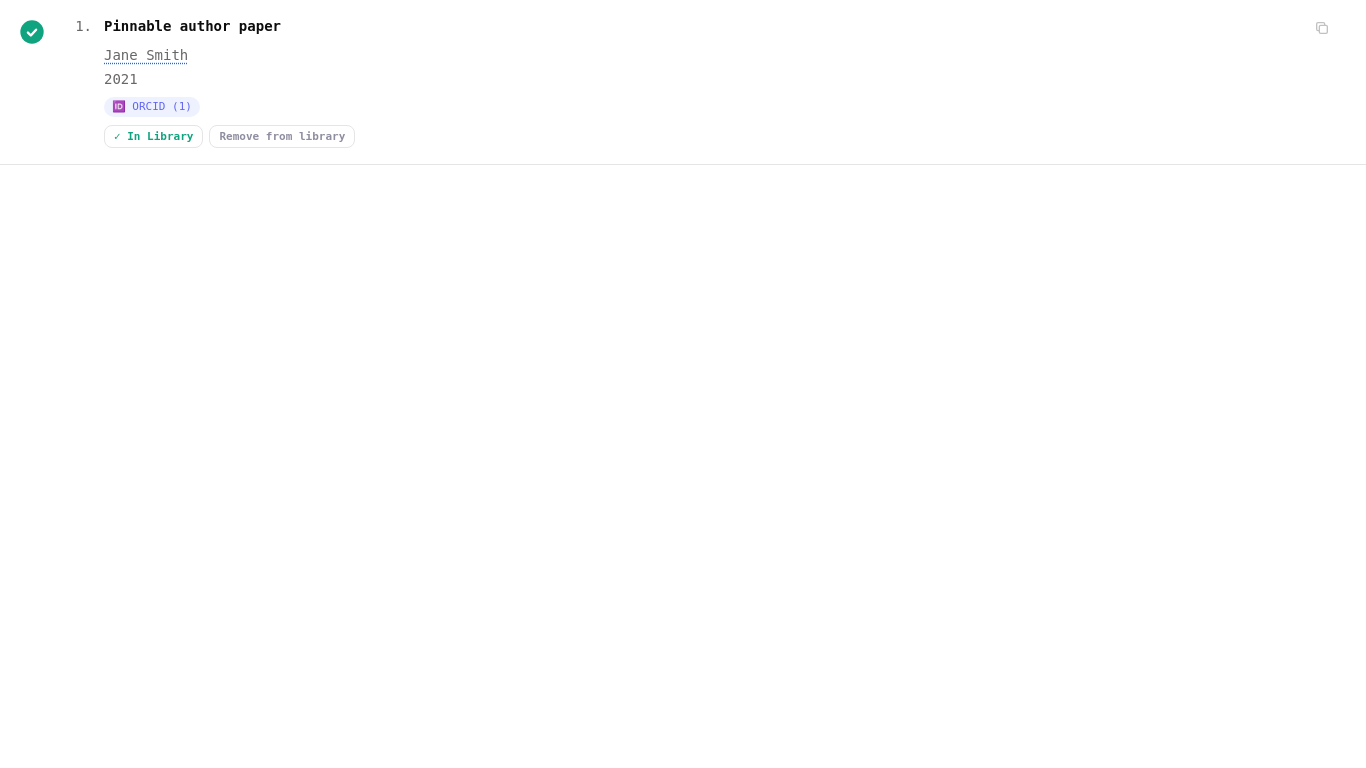
ReferenceCard — author UI cluster (D1) › R11: clicking the name pins the popover; ×, Escape, and outside-click close it; shows >3 papers
The image size is (1366, 768).
Click the name → pins open (a dialog role appears, off-hover).
Click the link "Jane Smith". click: [146, 55]
box: [104,47,188,63]
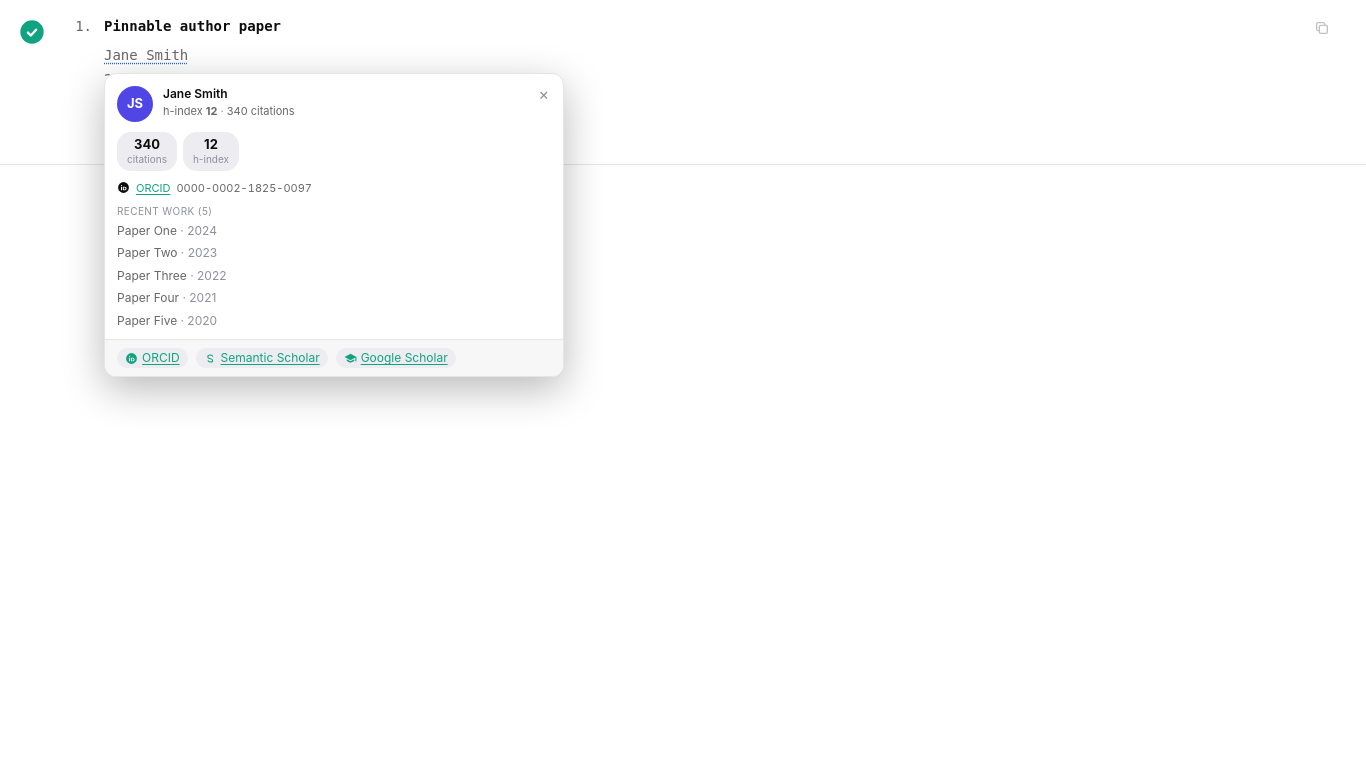
Expected: the dialog is shown, [104,73,564,377]
Expected: the text "Paper Four" is shown, [117,290,179,305]
Expected: the text "Paper Five" is shown, [117,313,177,328]
Escape closes it.
Press Escape
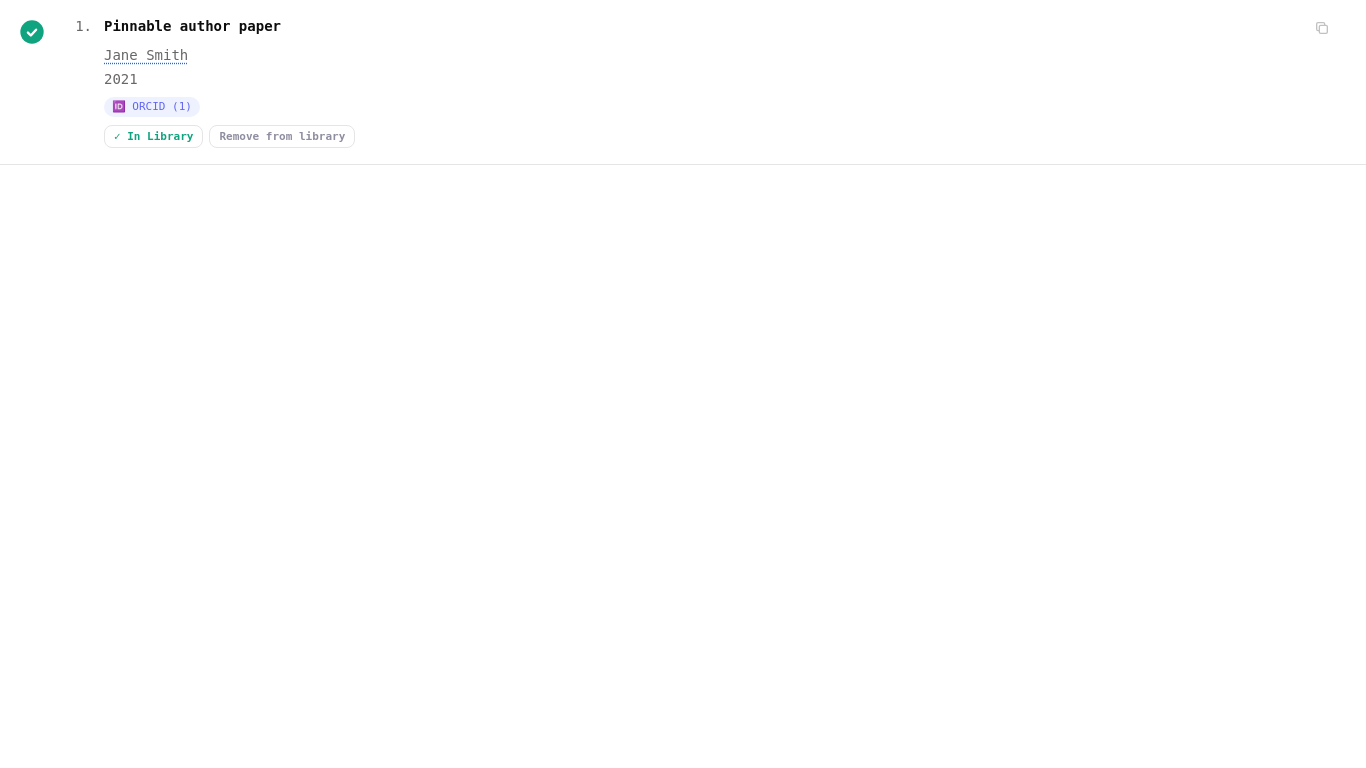
Expected: the dialog is gone
Re-pin, then close via the × control.
Click the link "Jane Smith". click: [146, 55]
box: [104,47,188,63]
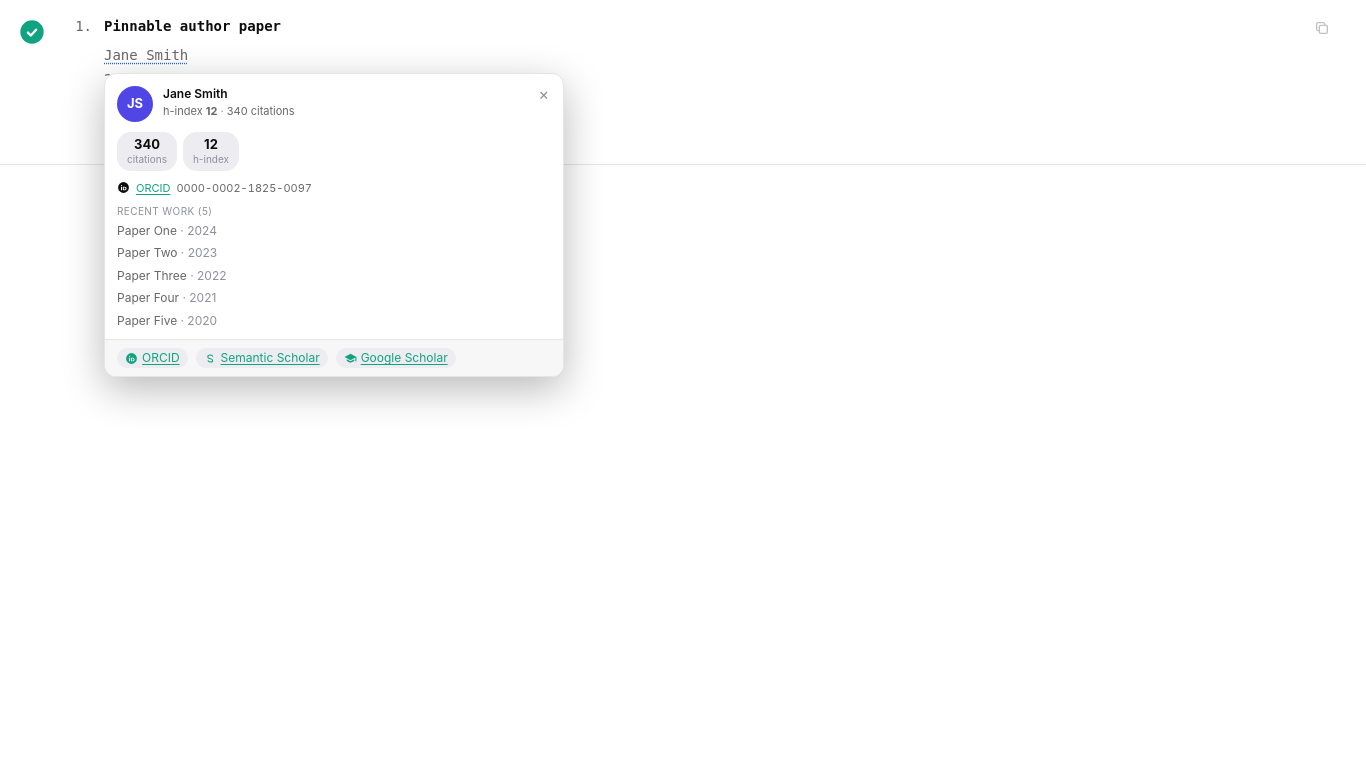
Click the button named "close author card". click: [544, 94]
box: [536,86,551,102]
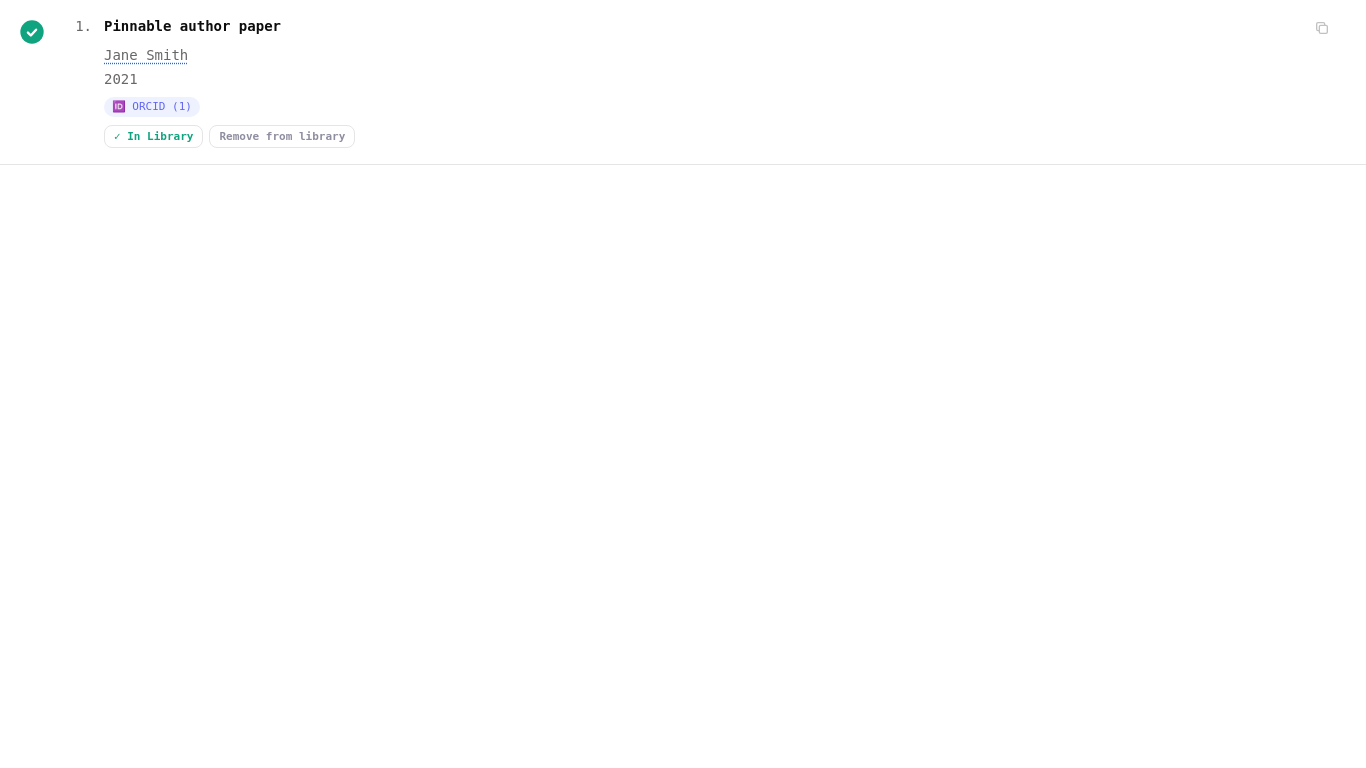
Expected: the dialog is gone
Re-pin, then close via outside-click (mousedown on the body).
Click the link "Jane Smith". click: [146, 55]
box: [104,47,188,63]
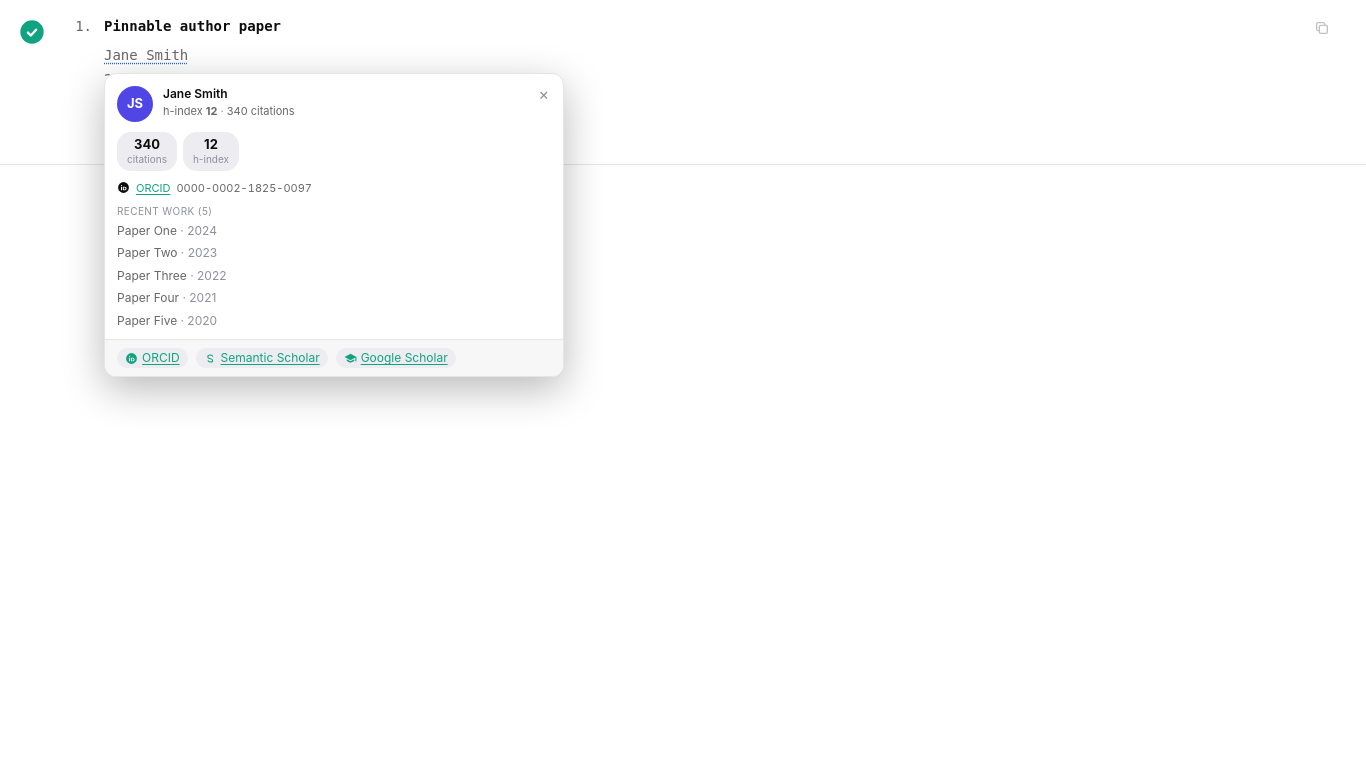
Expected: the dialog is shown, [104,73,564,377]
Press the mouse on the element that starts with "Pinnable author paper" at [683, 384], box [0,0,1365,767]
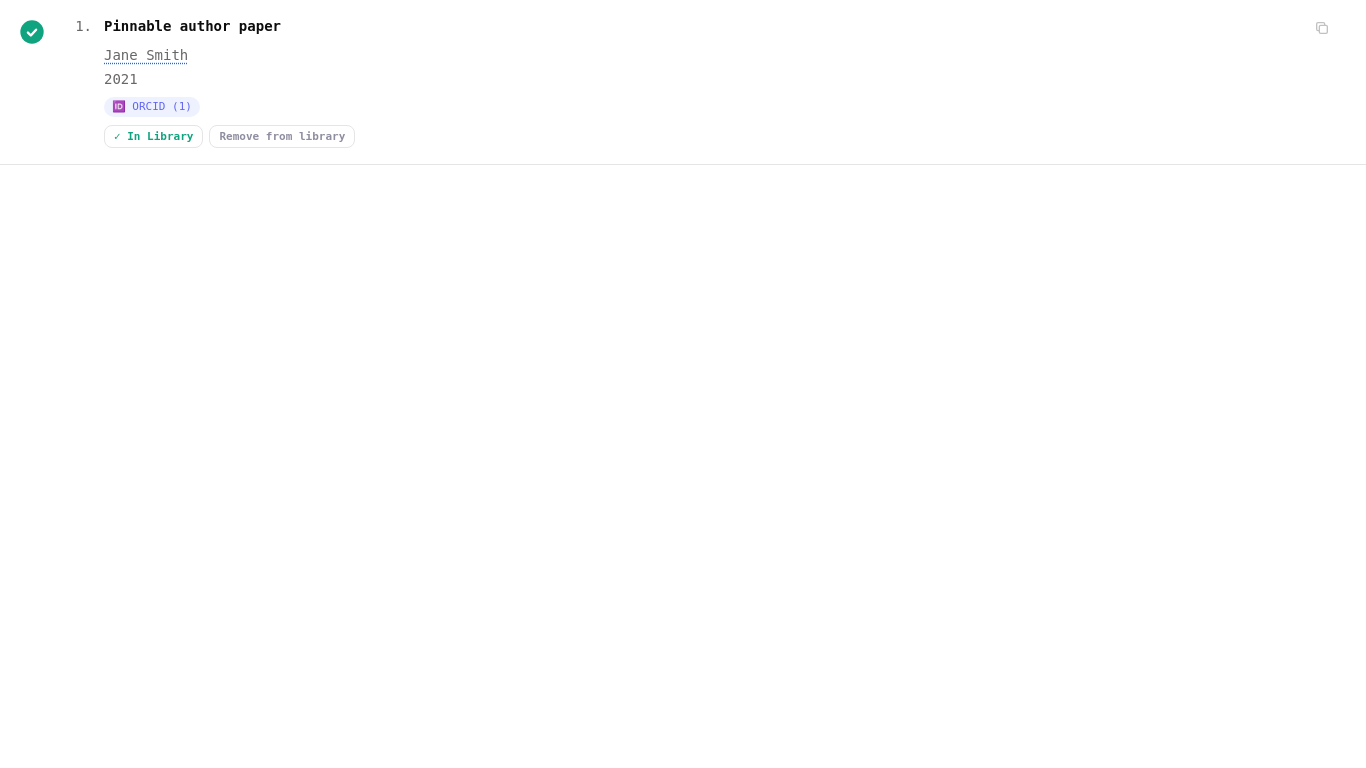
Expected: the dialog is gone
